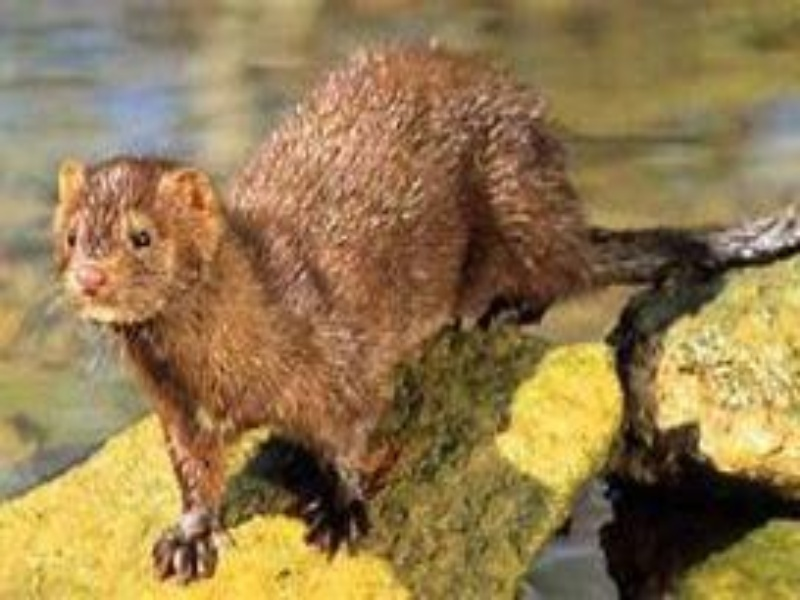minkish: (38, 37, 776, 586)
